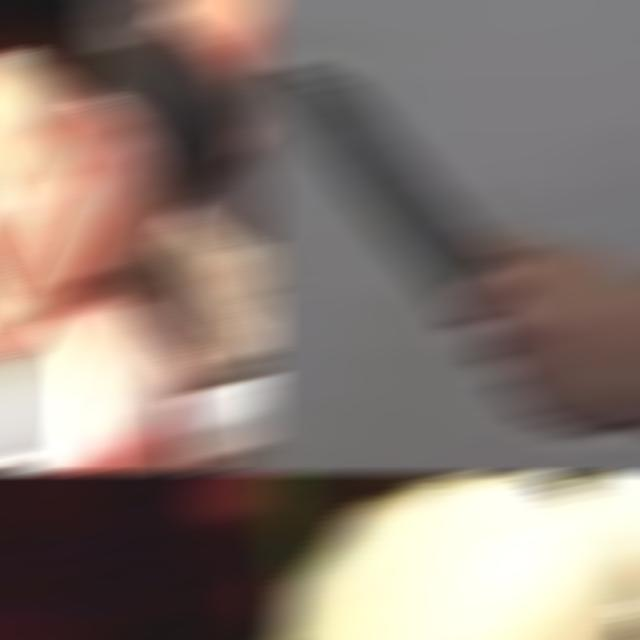Knife: (269, 68, 495, 310), (171, 354, 272, 472)
Knife_Handle: (269, 64, 640, 432), (281, 474, 640, 638), (0, 474, 272, 638), (2, 310, 272, 472)
